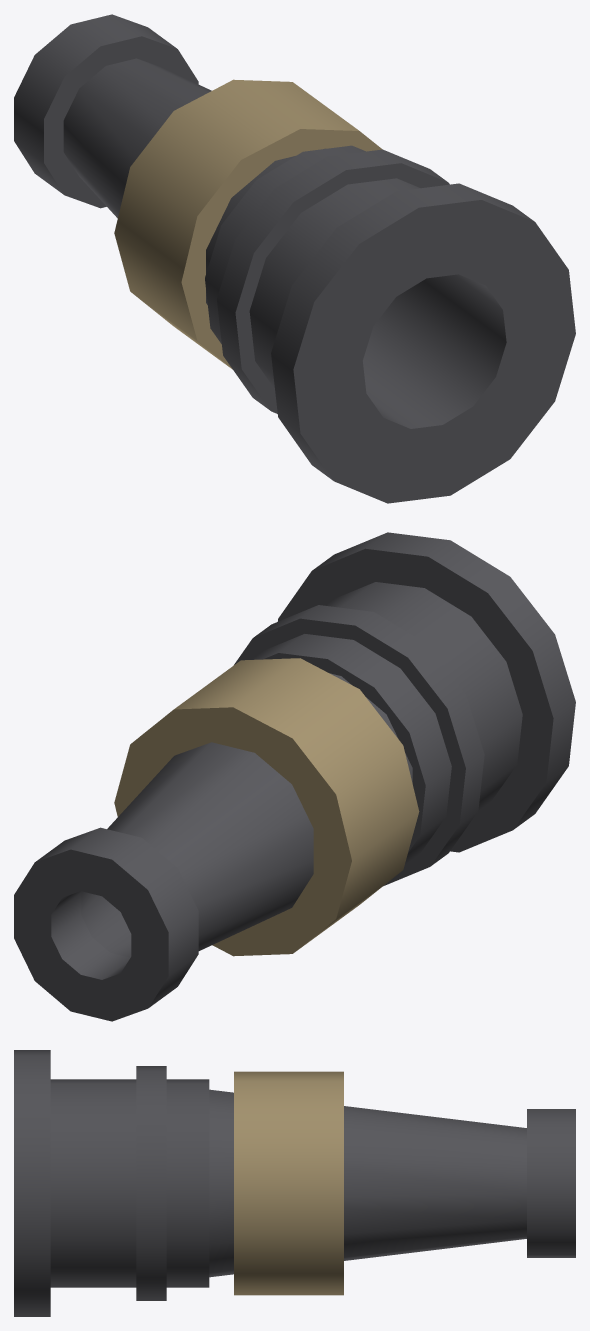
The model's file is DTP_Hose_OutletNozzle.fbx.
3 views of the same model, one above another, from view 1: azimuth 30°, elevation 25°; view 2: azimuth 150°, elevation 25°; view 3: azimuth 270°, elevation 25° (orthographic). The views are drawn at different scales.
Parts seen in each view (by area): view 1: TPD_Hose_OutletNozzle; view 2: TPD_Hose_OutletNozzle; view 3: TPD_Hose_OutletNozzle.
Part boxes in pixels (left/top/right/bottom): TPD_Hose_OutletNozzle: left=14, top=14, right=575, bottom=503; TPD_Hose_OutletNozzle: left=14, top=532, right=575, bottom=1021; TPD_Hose_OutletNozzle: left=14, top=1050, right=575, bottom=1316.
Size of the model in its own units: 0.2186 by 0.2186 by 0.46.
